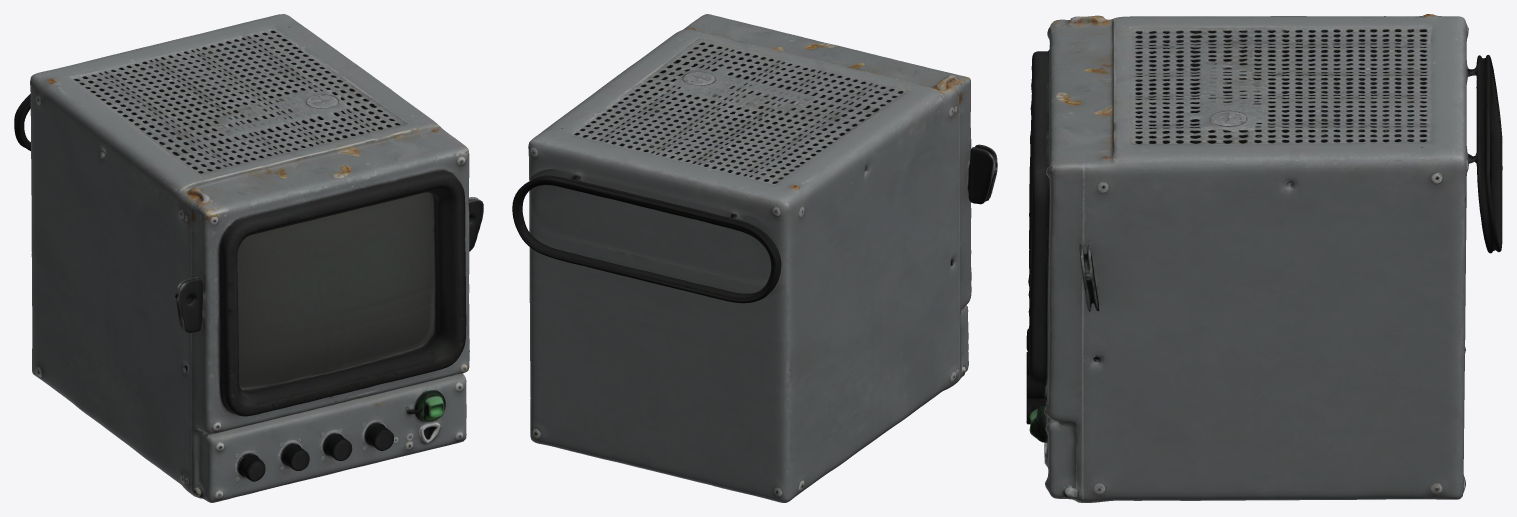
Rendered from menu_tv_exit.glb.
3 views of the same model, side by side, from view 1: azimuth 30°, elevation 25°; view 2: azimuth 150°, elevation 25°; view 3: azimuth 270°, elevation 25° (orthographic). The views are drawn at different scales.
Parts seen in each view (by area): view 1: tripo_node_a2f48232; view 2: tripo_node_a2f48232; view 3: tripo_node_a2f48232.
Boxes of the visible parts, <box> form: tripo_node_a2f48232: <box>14,14,483,502</box>; tripo_node_a2f48232: <box>512,14,997,502</box>; tripo_node_a2f48232: <box>1026,14,1502,502</box>.
Size of the model in its own units: 86.74 by 79.55 by 97.83.
1 material, 1 textured.
